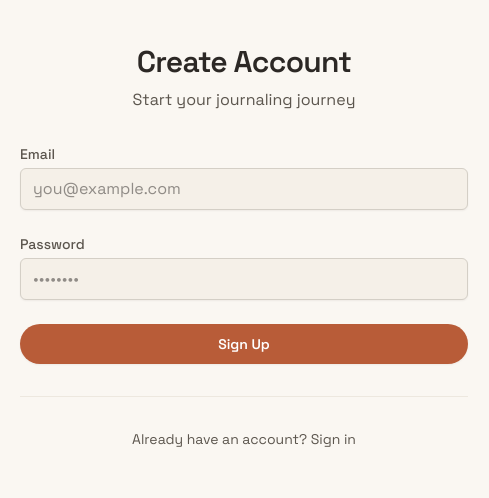
Scenario: AuthForm › displays error on signup failure
In the field labelled "Email": (244, 188) [20,168,468,210], type "dup@example.com"
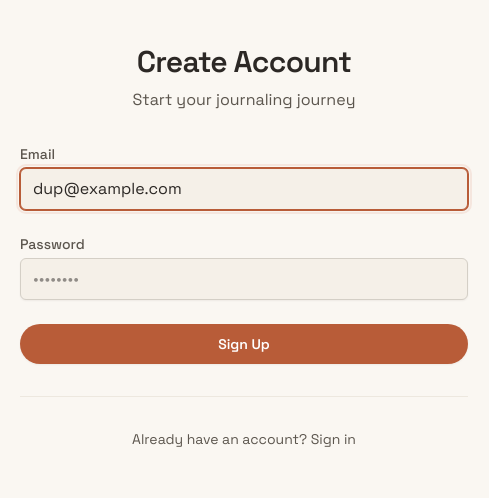
In the password field labelled "Password": (244, 278) [20,258,468,300], type "pass123"
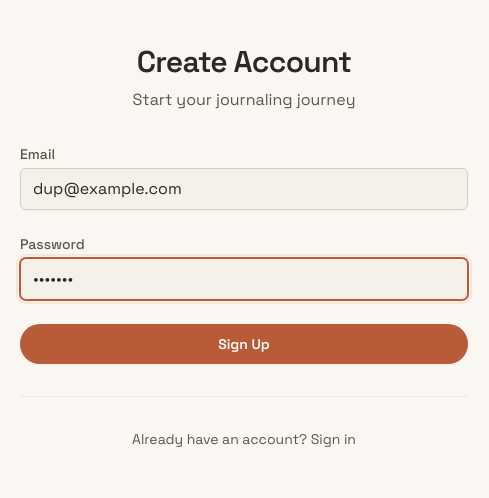
Click the button "Sign Up": (244, 344) [20,324,468,364]
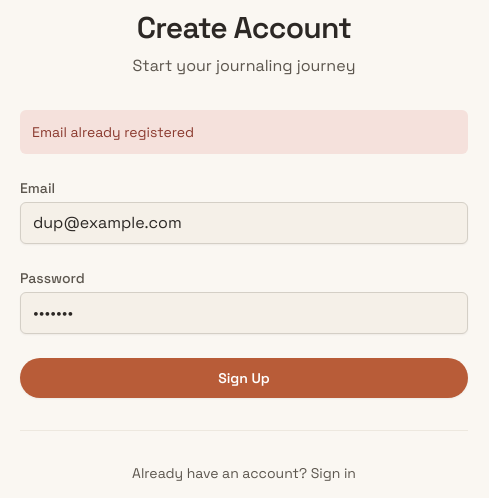
expect the text "Email already registered" is shown: met, box [20,110,468,154]
